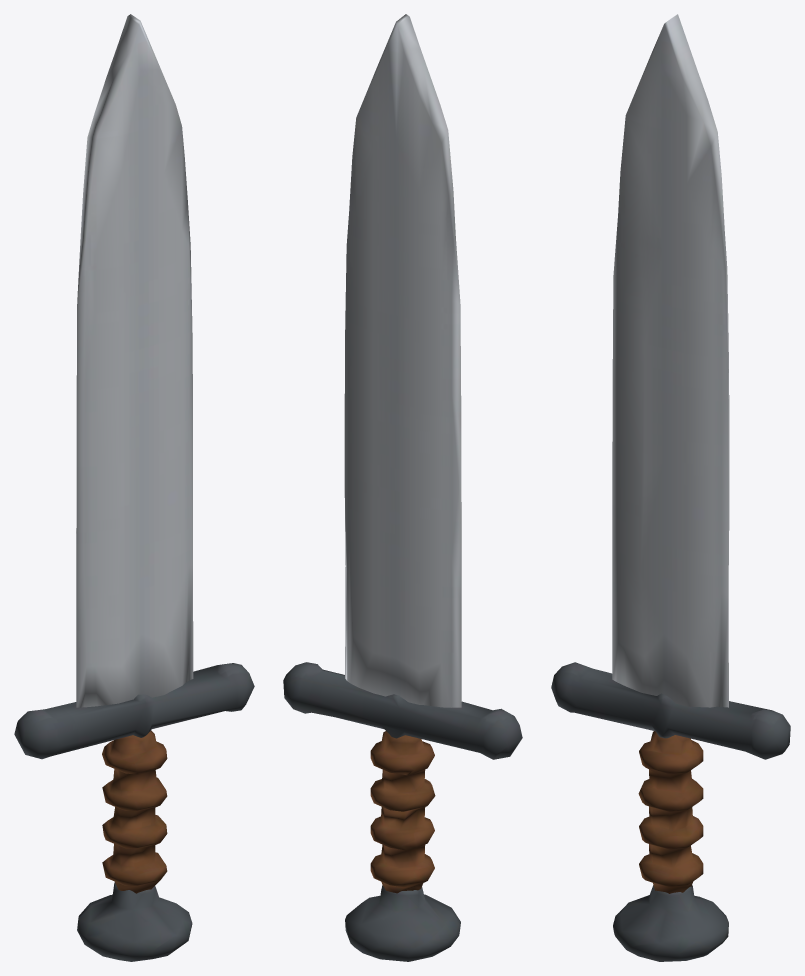
File: short-sword.glb
3 renders of one model, left to right at view 1: azimuth 30°, elevation 25°; view 2: azimuth 150°, elevation 25°; view 3: azimuth 330°, elevation 25°, orthographic.
Parts seen in each view (by area): view 1: blade; view 2: blade; view 3: blade.
Boxes of the visible parts, <box> form: blade: <box>14,14,254,961</box>; blade: <box>283,14,522,961</box>; blade: <box>551,14,790,961</box>.
Bounding box in the file's own units: 0.1814 × 0.6971 × 0.0795.
Materials: 1 (1 with a texture image).
